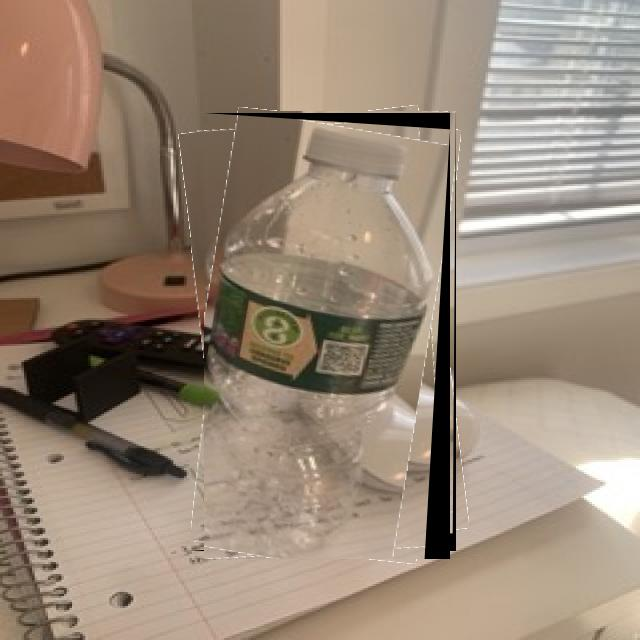water_bottle: (191, 111, 456, 551), (204, 113, 450, 559)
